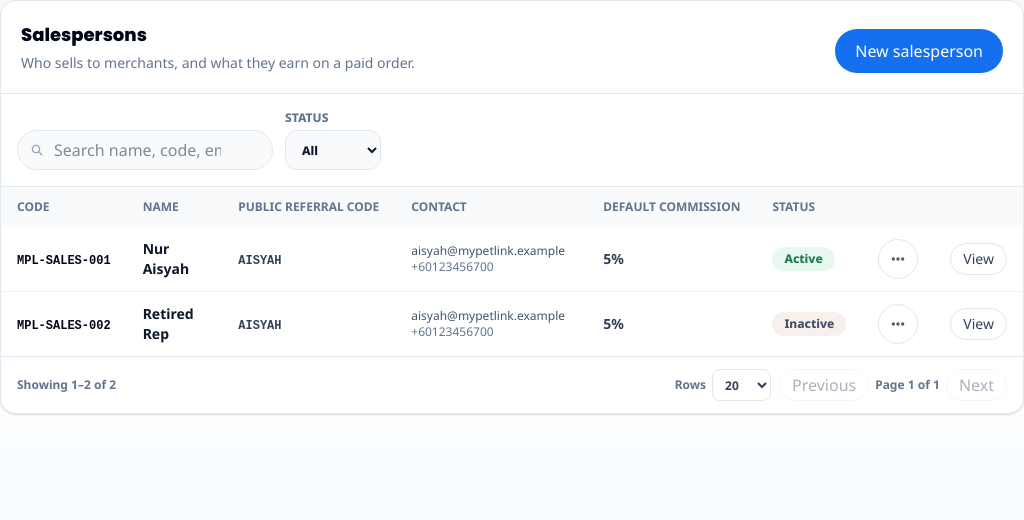
it: Salesperson activation › offers activation for an inactive salesperson
Click the button named "Actions for MPL-SALES-002".
click(898, 324)  # box [878,304,918,344]
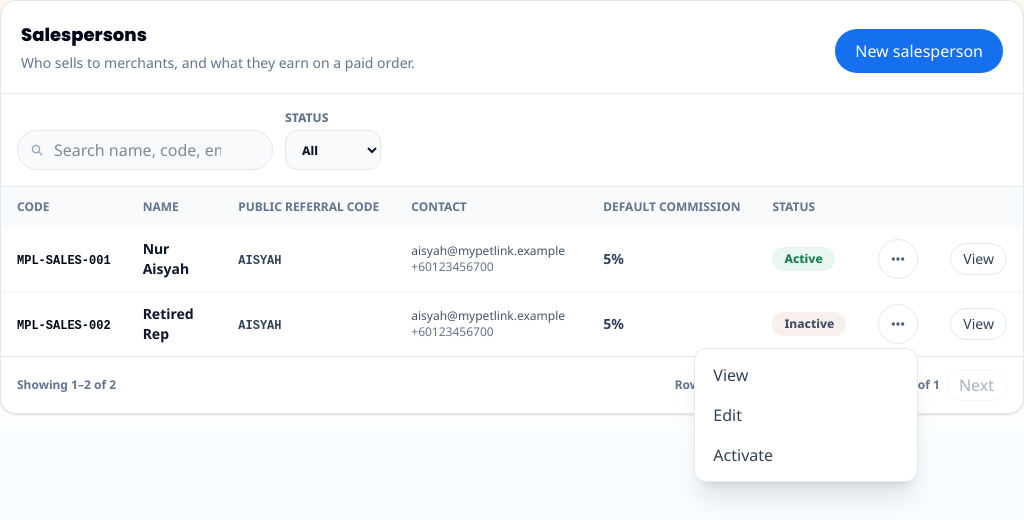
Expected: the menu item "Activate" is shown, [701,435,911,475]
